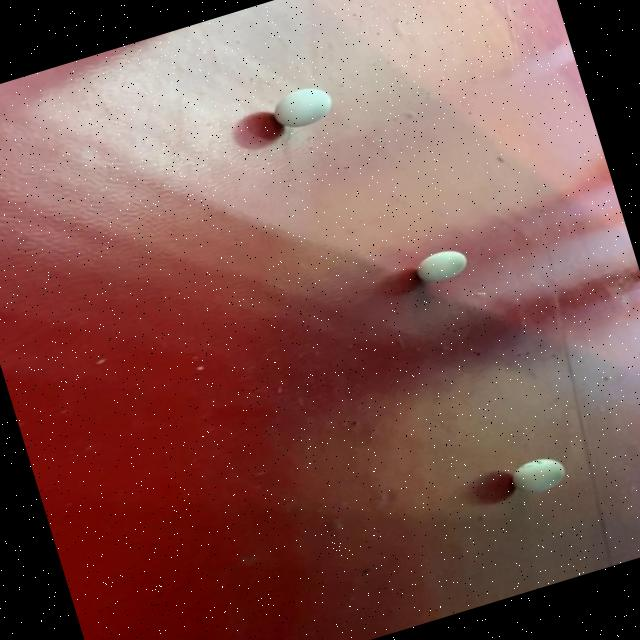ping-pong-ball: (267, 80, 337, 134), (505, 451, 570, 500), (409, 243, 472, 289)
